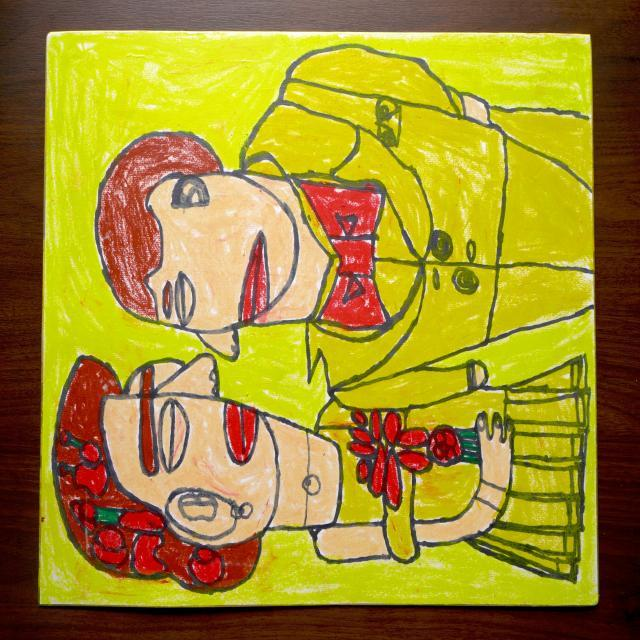painting: (39, 31, 597, 605)
